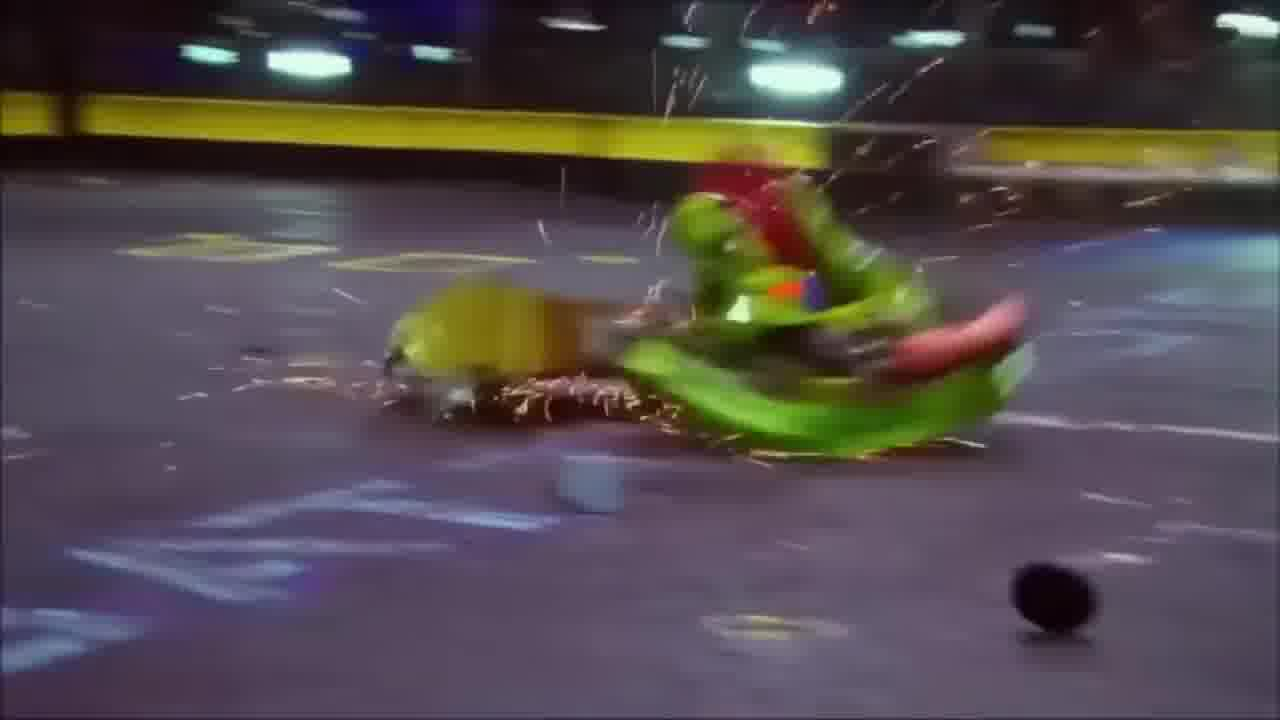combatbot: (617, 169, 1036, 479), (390, 281, 625, 434)
wheel: (1010, 556, 1098, 632)
